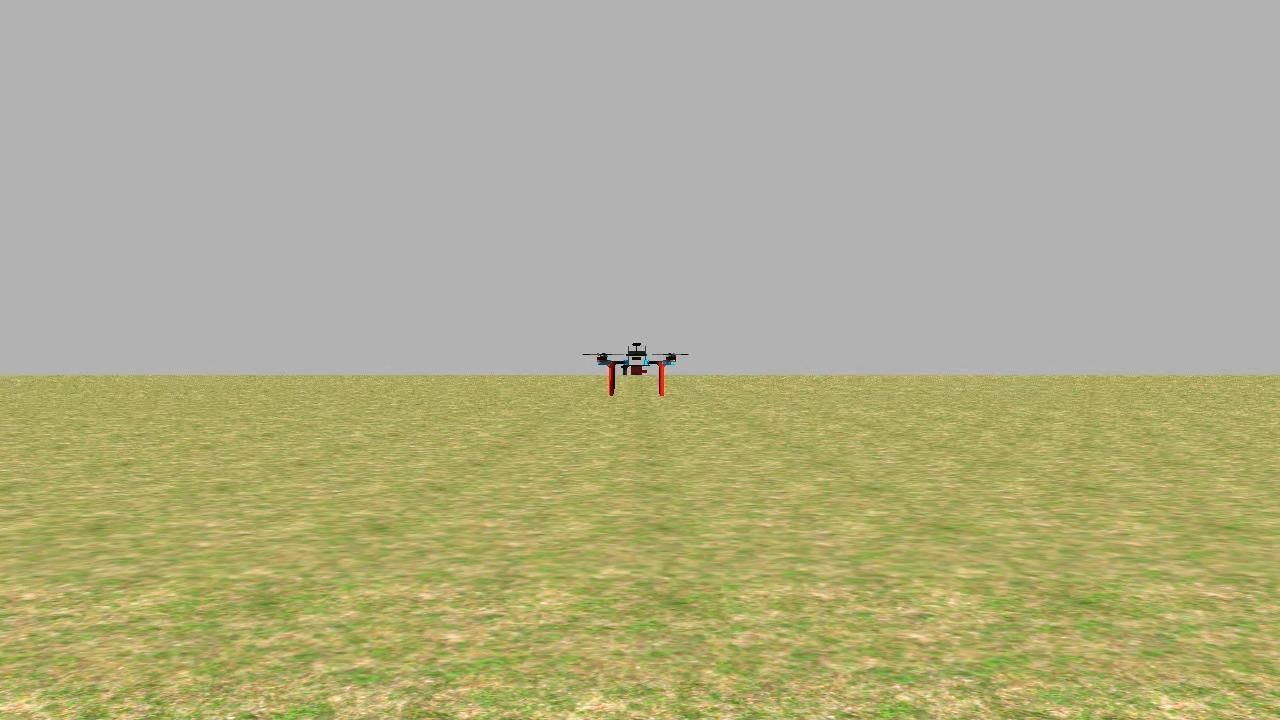UAV: (584, 330, 695, 404)
